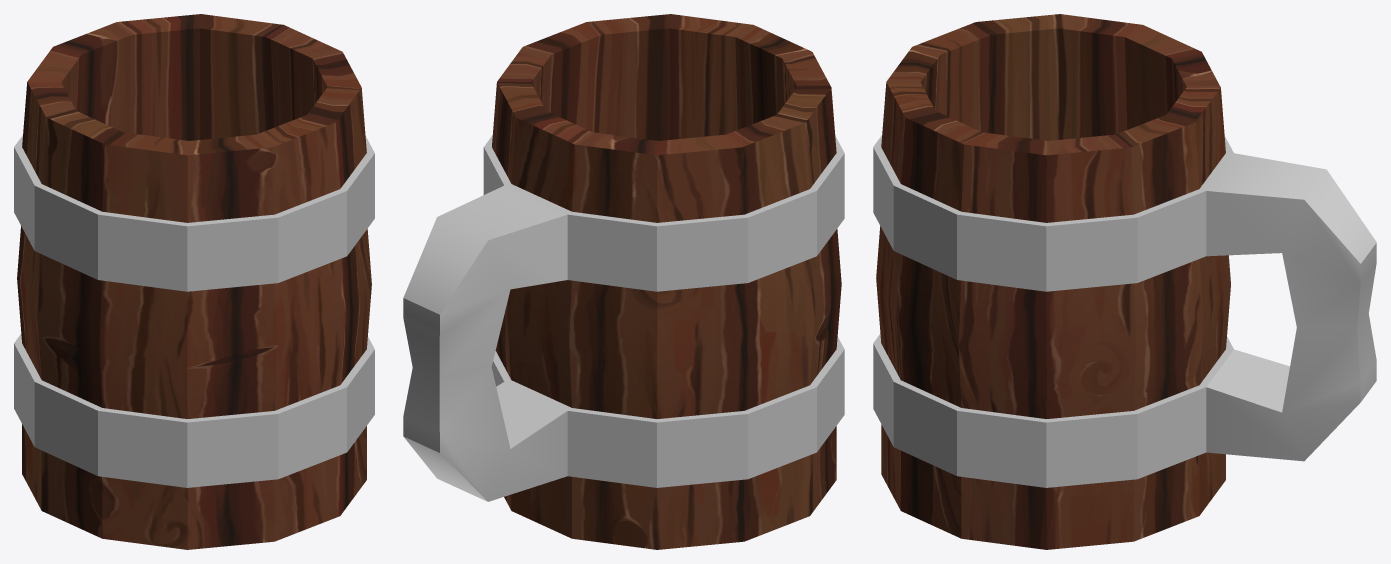
The model's file is wooden_mug.fbx.
3 views of the same model, side by side, from view 1: azimuth 30°, elevation 25°; view 2: azimuth 150°, elevation 25°; view 3: azimuth 270°, elevation 25° (orthographic).
Parts seen in each view (by area): view 1: mug; view 2: mug; view 3: mug.
Part boxes in pixels (x1,y1,x2,y2): mug: [14, 14, 374, 549]; mug: [403, 14, 844, 549]; mug: [873, 14, 1376, 549].
Bounding box in the file's own units: 1.46 × 1.75 × 2.04.
